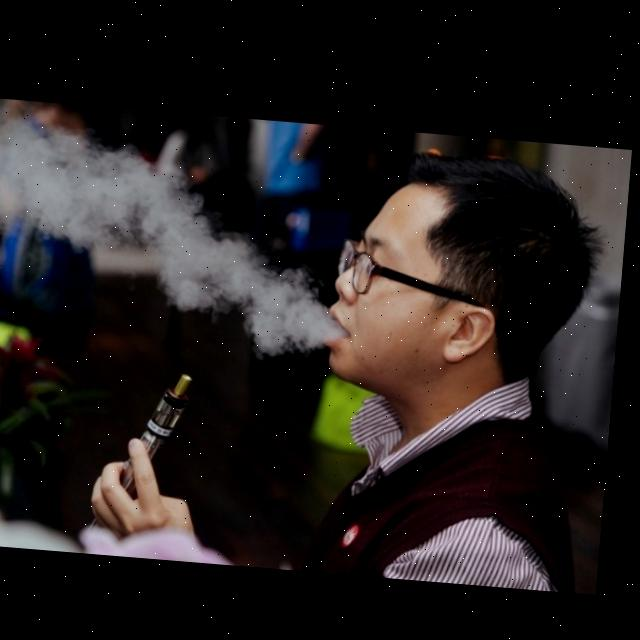vape: (91, 363, 201, 558)
